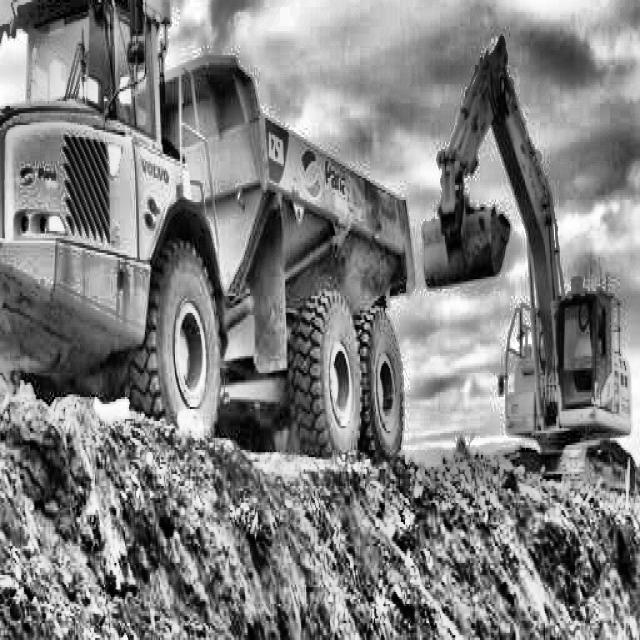dump_truck: (0, 0, 419, 498)
excavator: (419, 0, 640, 539)
